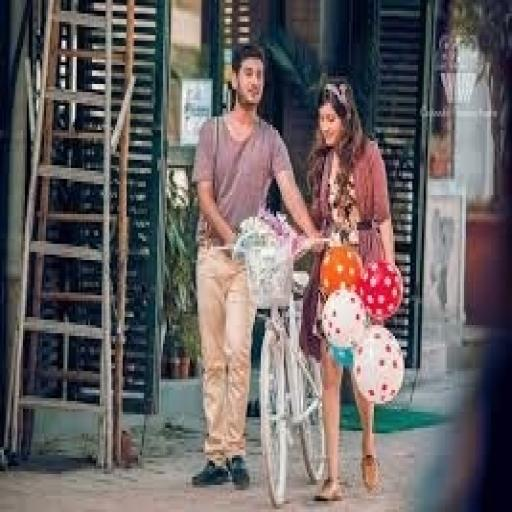cycling: (188, 41, 328, 493), (301, 76, 399, 504)
